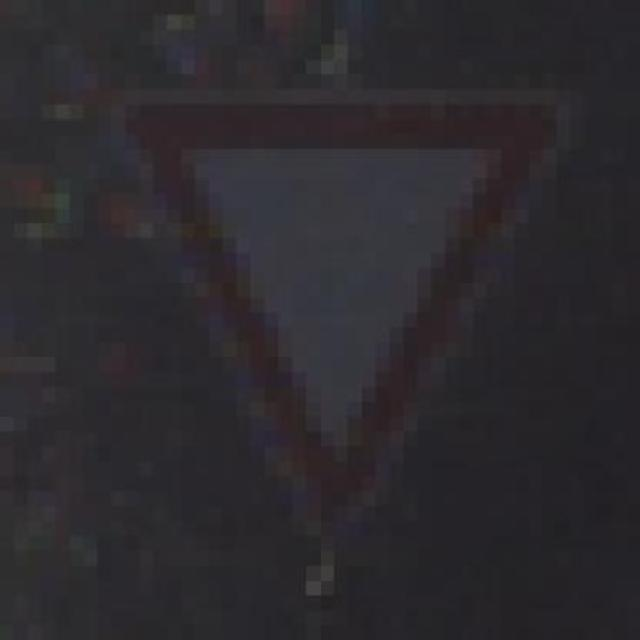Give Way: (81, 45, 596, 582)
